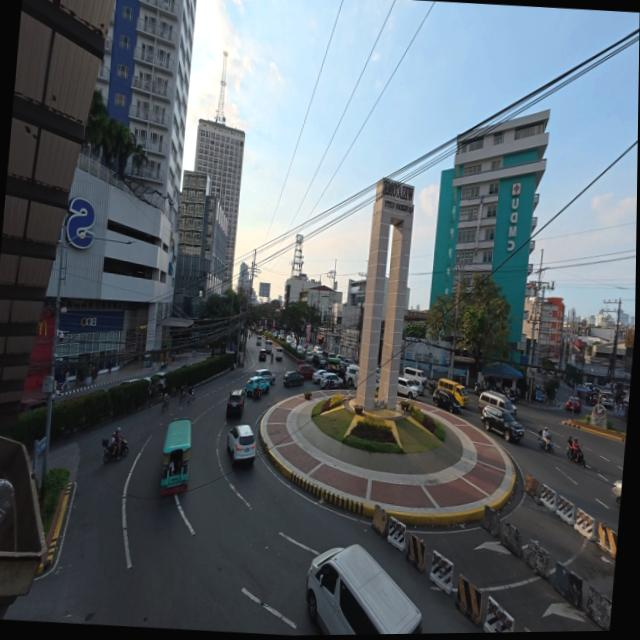car: (477, 404, 524, 443), (223, 421, 259, 468), (428, 377, 466, 410), (312, 367, 343, 389), (226, 392, 247, 421), (279, 369, 302, 388), (562, 396, 581, 412)
vans: (303, 536, 432, 635)
